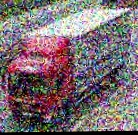truck: (0, 7, 136, 128)
